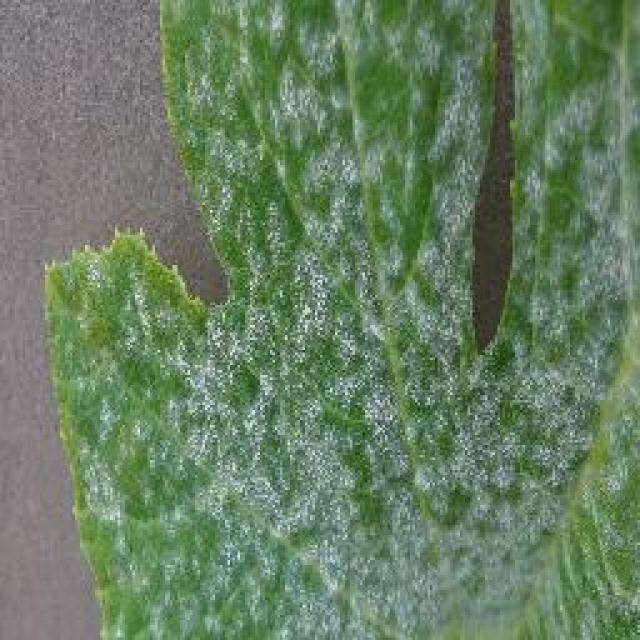Squ_Powdery_mildew: (159, 48, 591, 618)
